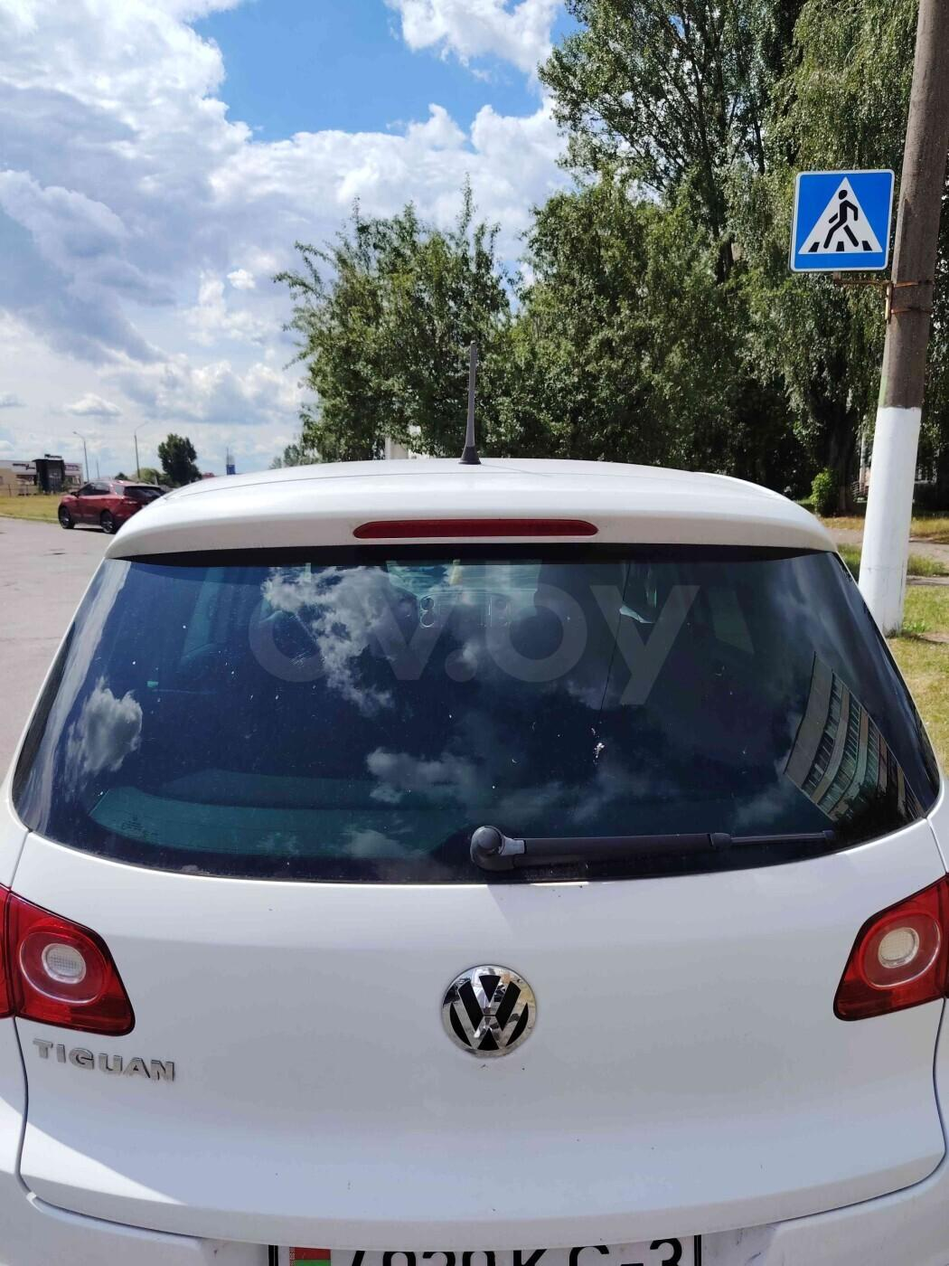Tiguan_2007-2011: (0, 456, 949, 1266)
